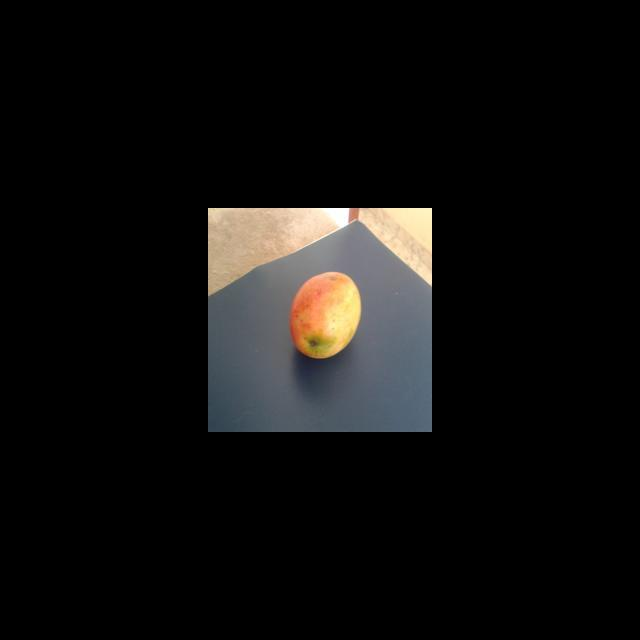Mango: (288, 271, 361, 359)
